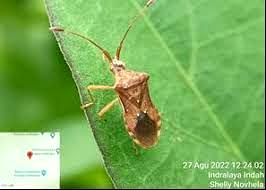Helopeltis-insect: (108, 55, 164, 152)
